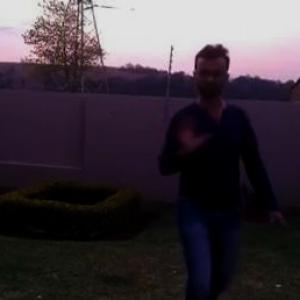follow_hand: (173, 114, 212, 155)
